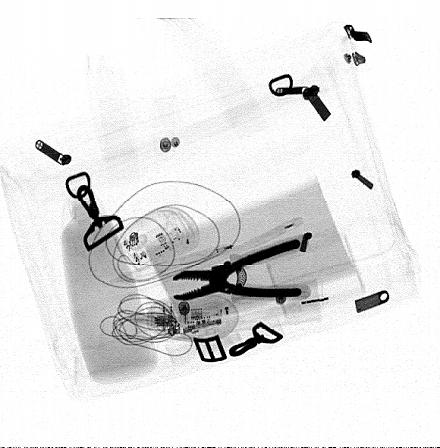Pliers: (171, 238, 304, 302)
